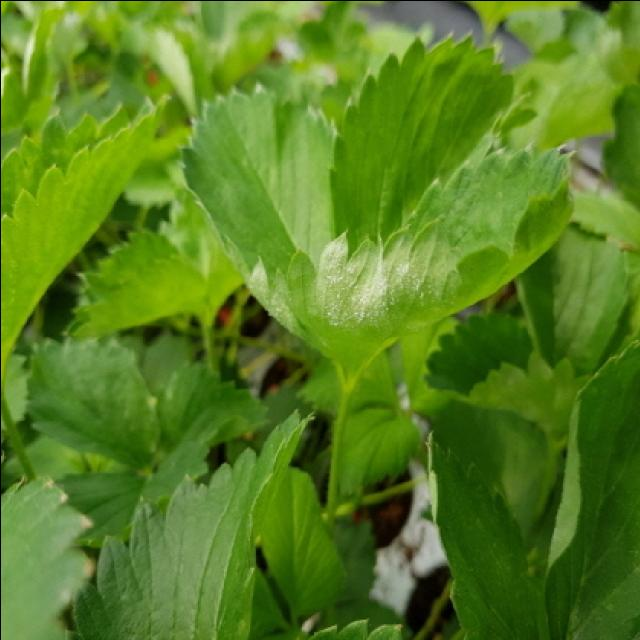Powdery Mildew Leaf: (284, 138, 577, 387), (177, 78, 337, 360)
